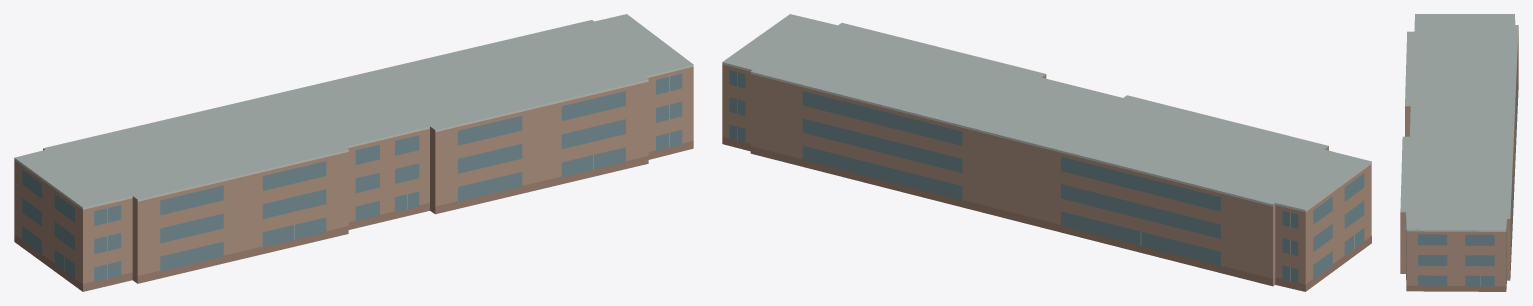
The model's file is survey-upis-32887152.glb.
The picture shows the model from 3 angles, left to right: view 1: azimuth 30°, elevation 25°; view 2: azimuth 150°, elevation 25°; view 3: azimuth 270°, elevation 25°; orthographic projection. The views are drawn at different scales.
Visible parts, largest first — view 1: survey-upis-32887152.tmp; view 2: survey-upis-32887152.tmp; view 3: survey-upis-32887152.tmp.
Boxes of the visible parts, x1,y1,x2,y2 form: survey-upis-32887152.tmp: (14, 14, 693, 291); survey-upis-32887152.tmp: (722, 14, 1371, 291); survey-upis-32887152.tmp: (1400, 14, 1518, 291).
Size of the model in its own units: 68.9 by 9.15 by 15.92.
